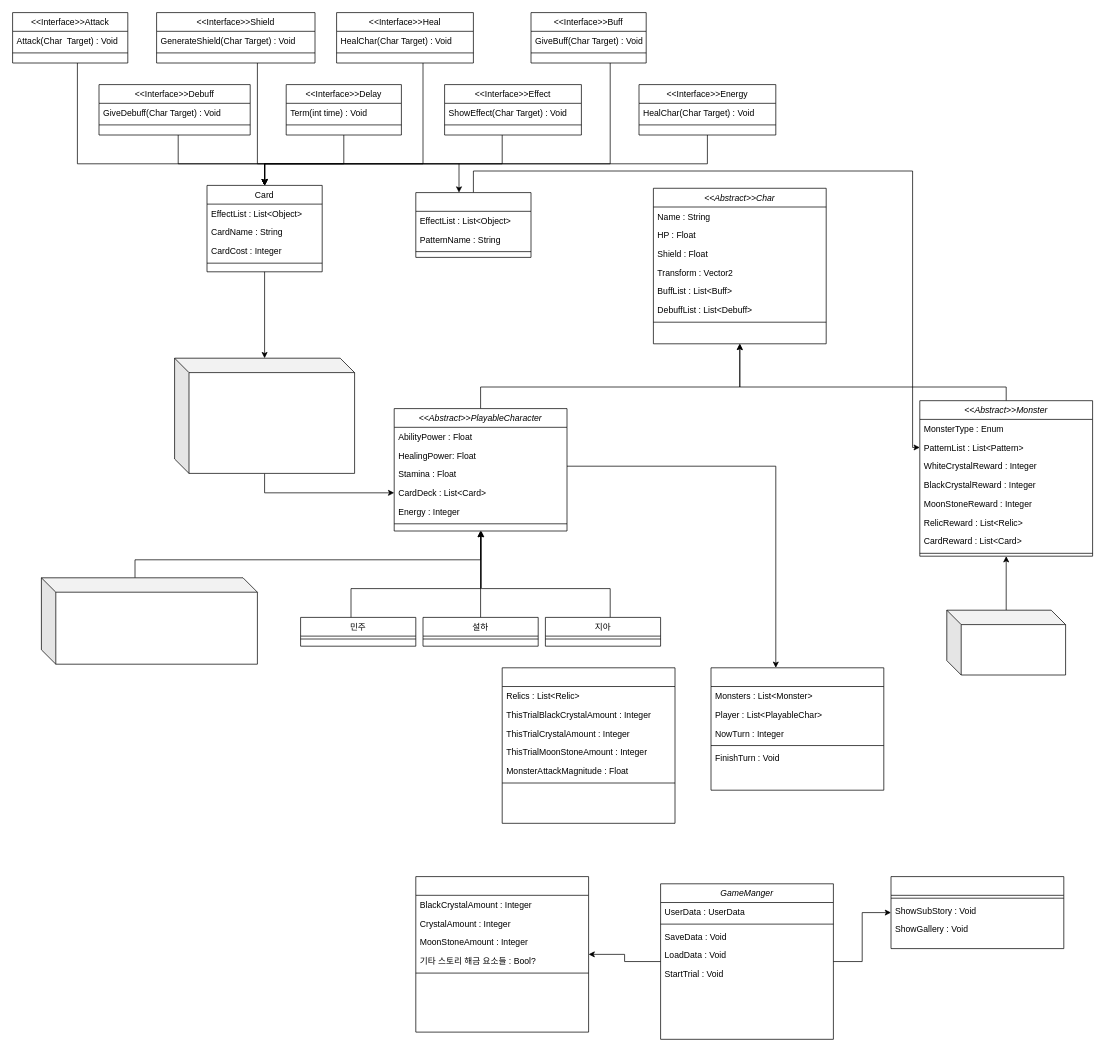
The diagram is 1105 pixels wide and 1052 high, and some of its shapes have lost their labels. Here are the shapes that lost their labels. From the top down, the box of each, then its label:
(415, 192, 531, 257): MonsterPattern
(174, 357, 355, 473): Card Maker 유저가 사용 가능한 카드들 생성
(41, 577, 257, 664): 상점으로 스탯 강화 가능
(946, 609, 1066, 675): 다양한 몬스터들
(501, 667, 675, 823): TrialManager
(710, 667, 884, 790): BattleManager
(890, 876, 1064, 949): StoryManager
(415, 876, 589, 1032): UserData
